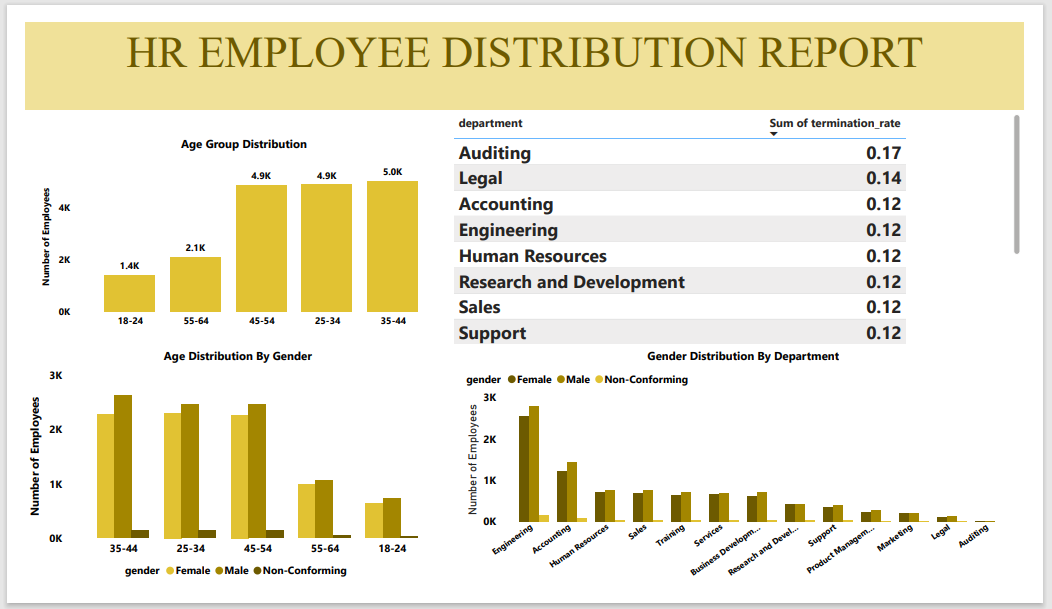

The dashboard page shown, as its layout file describes it:
{"tool":"powerbi","page":{"name":"Page 2","canvas":[1280,720],"ordinal":1},"visuals":[{"type":"clusteredColumnChart","title":"Age Group Distribution","fields":{"Category":["age_count_hr.age_group"],"Y":["Sum(age_count_hr.count)"]},"box":[16,144,528,256],"z":0},{"type":"clusteredColumnChart","title":"Age Distribution By Gender","fields":{"Category":["age_count_hr.age_group"],"Y":["Sum(age_count_hr.count)"],"Series":["age_count_hr.gender"]},"box":[0,416,544,304],"z":1000},{"type":"tableEx","fields":{"Values":["dept_turnover_hr.department","Sum(dept_turnover_hr.termination_rate)"]},"box":[544,112,736,304],"z":2000},{"type":"clusteredColumnChart","title":"Gender Distribution By Department","fields":{"Category":["gender_distr_dept_hr.department"],"Y":["Sum(gender_distr_dept_hr.count)"],"Series":["gender_distr_dept_hr.gender"]},"box":[560,416,720,304],"z":3000},{"type":"textbox","box":[0,0,1280,112],"z":4000}]}

Visuals, with their boxes in screenshot pixels (x1, y1, x2, y2), scaled from the page's 1280x720 canvas onto the 1052x609 screenshot:
"Age Group Distribution" clusteredColumnChart: pyautogui.locateOnScreen(13, 122, 447, 338)
"Age Distribution By Gender" clusteredColumnChart: pyautogui.locateOnScreen(0, 352, 447, 608)
tableEx - dept_turnover_hr.department x Sum(dept_turnover_hr.termination_rate): pyautogui.locateOnScreen(447, 95, 1051, 352)
"Gender Distribution By Department" clusteredColumnChart: pyautogui.locateOnScreen(460, 352, 1051, 608)
textbox: pyautogui.locateOnScreen(0, 0, 1051, 95)
